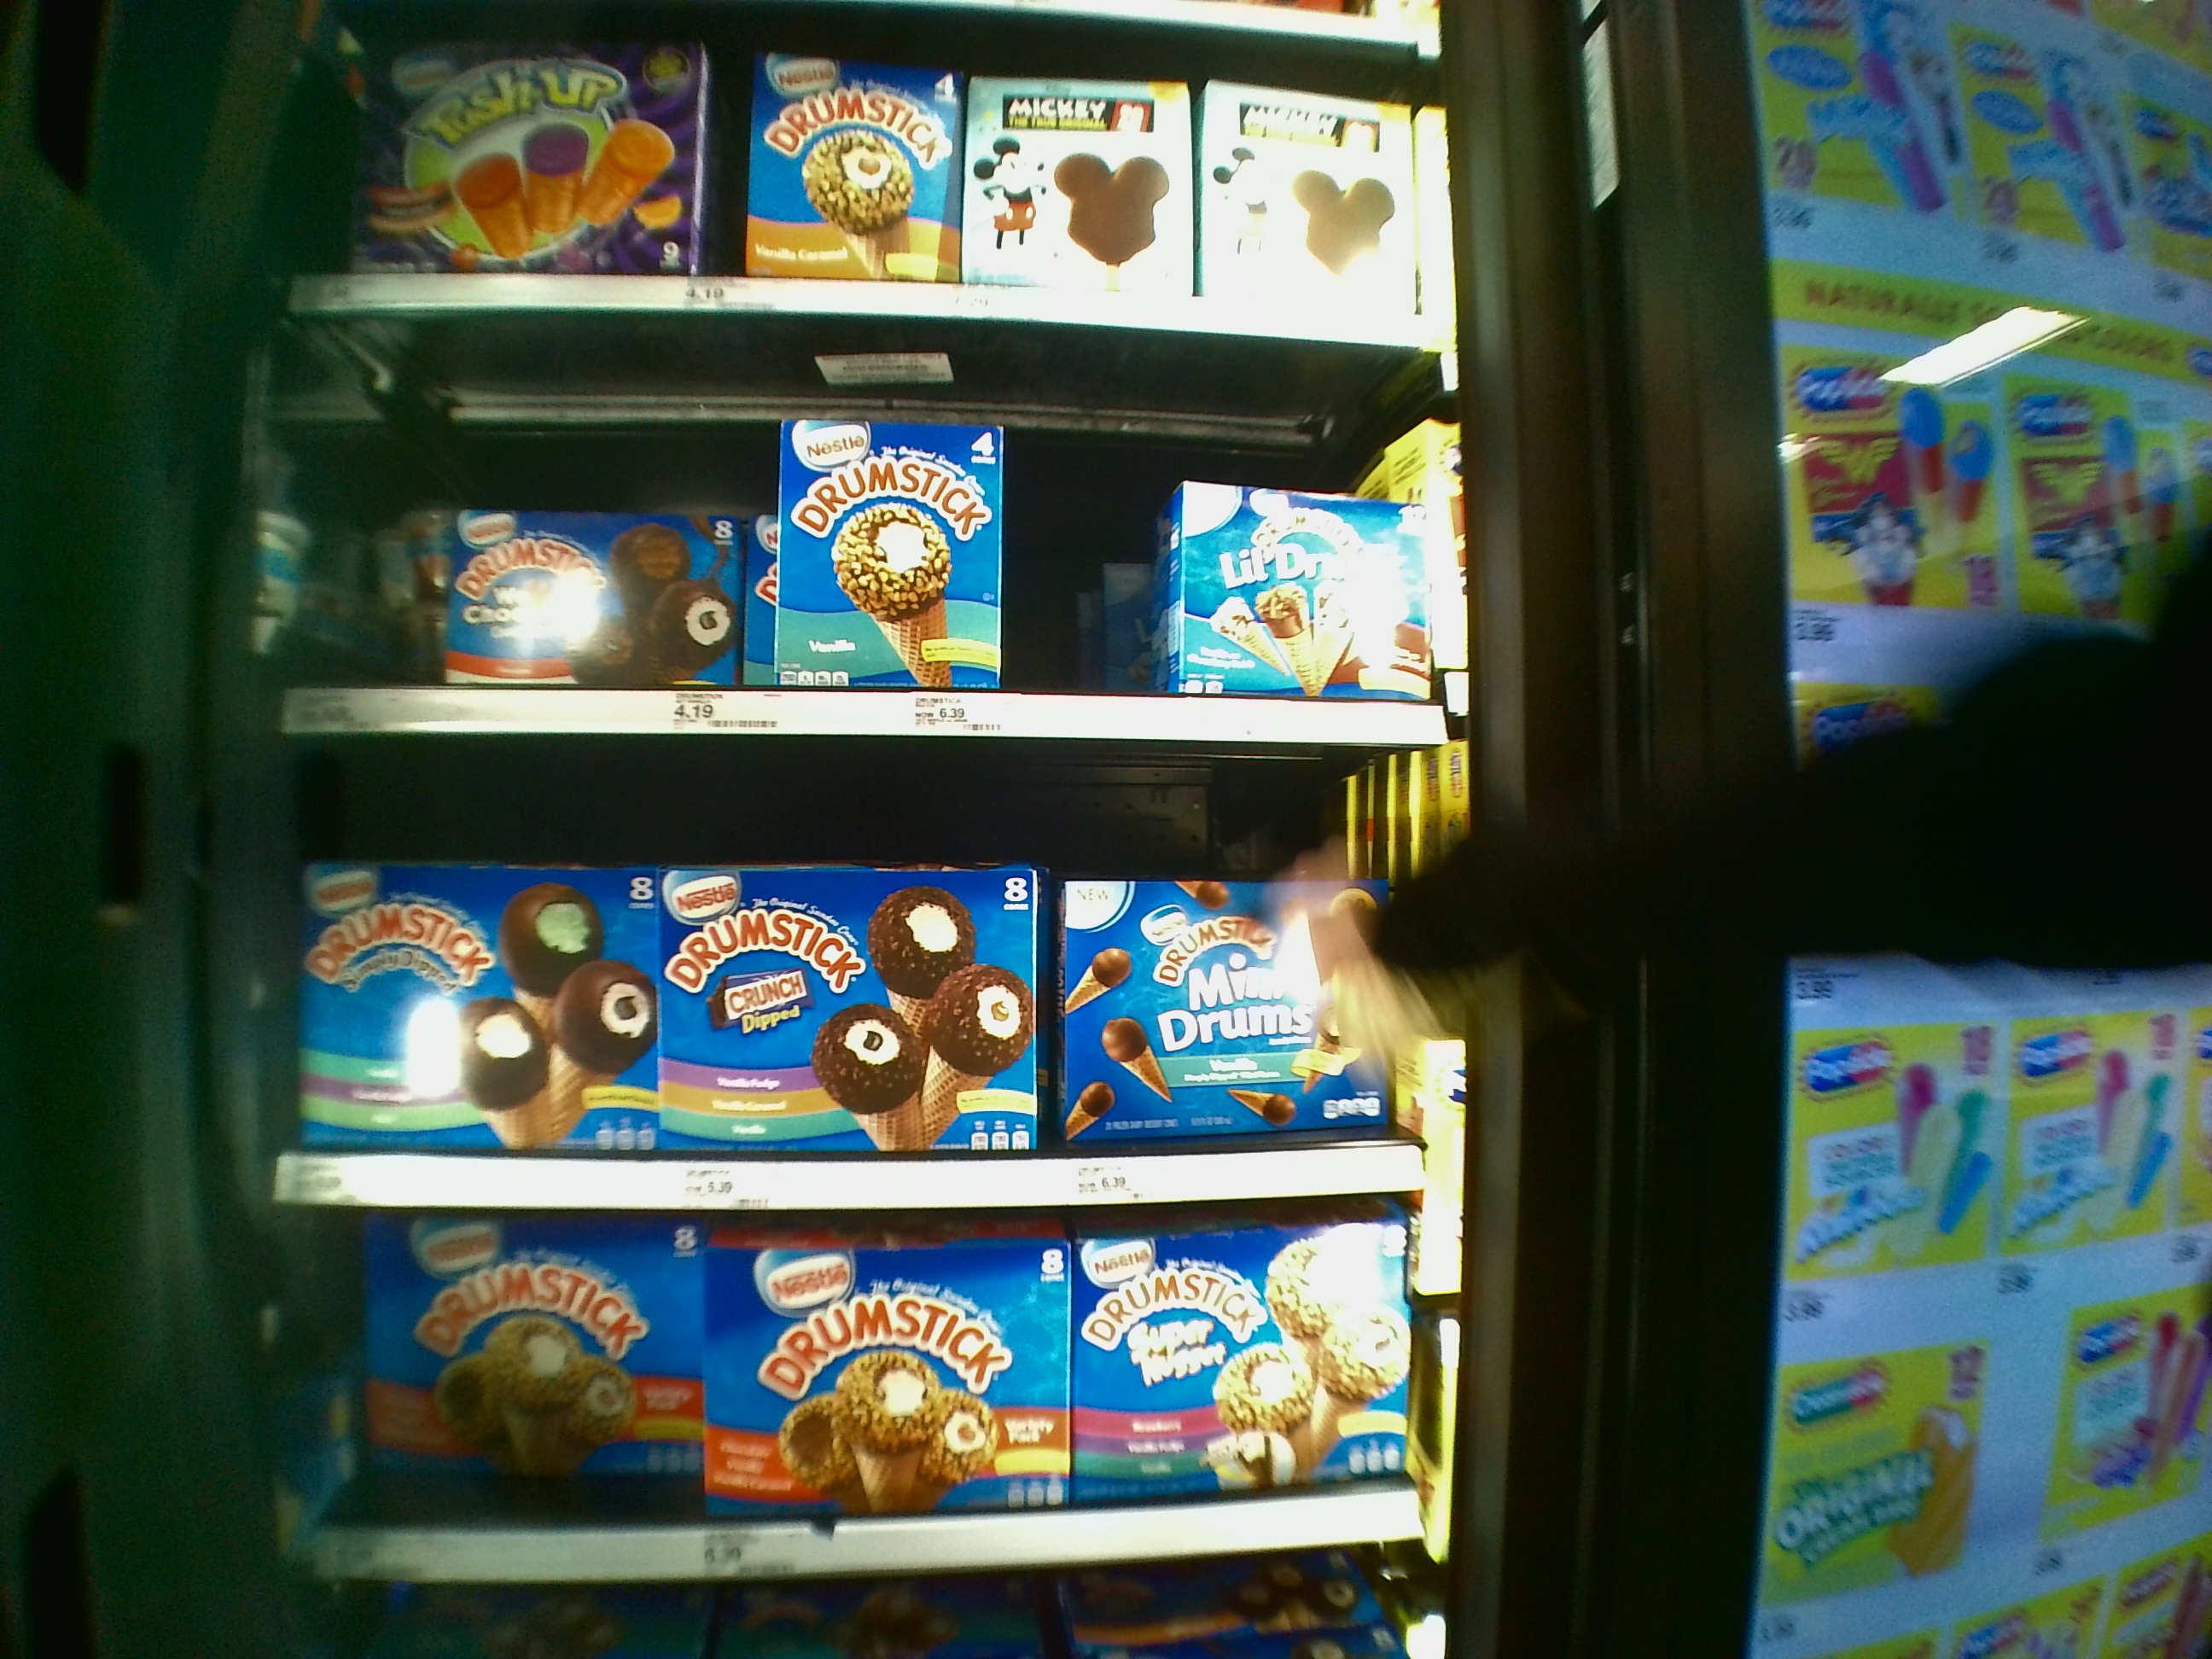shelf: (291, 730, 1451, 1208), (282, 328, 1446, 730), (298, 1201, 1446, 1574)
